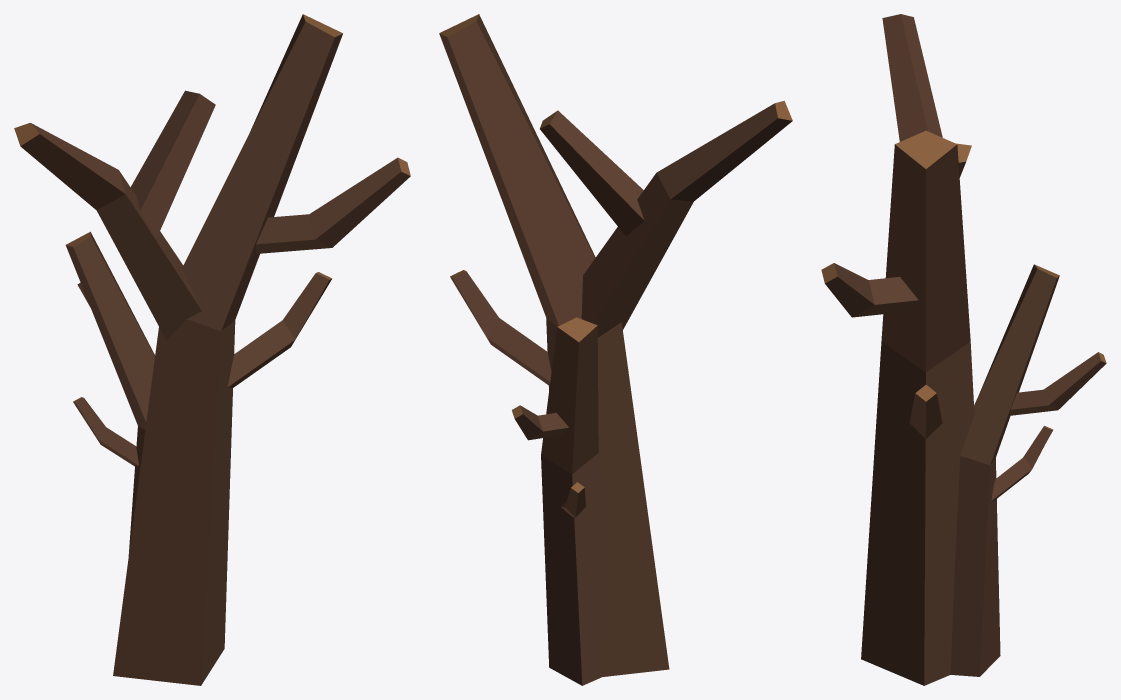
File: TB_D_Env_DeadTreeA_B.FBX
3 views of the same model, side by side, from view 1: azimuth 30°, elevation 25°; view 2: azimuth 150°, elevation 25°; view 3: azimuth 270°, elevation 25° (orthographic). The views are drawn at different scales.
Visible parts, largest first — view 1: TB_D_Env_DeadTreeA_B; view 2: TB_D_Env_DeadTreeA_B; view 3: TB_D_Env_DeadTreeA_B.
Boxes of the visible parts, box(x1,y1,x2,y2) form: TB_D_Env_DeadTreeA_B: box(14, 14, 410, 685); TB_D_Env_DeadTreeA_B: box(439, 14, 792, 685); TB_D_Env_DeadTreeA_B: box(821, 14, 1106, 685).
Size of the model in its own units: 3.43 by 5.55 by 2.41.
